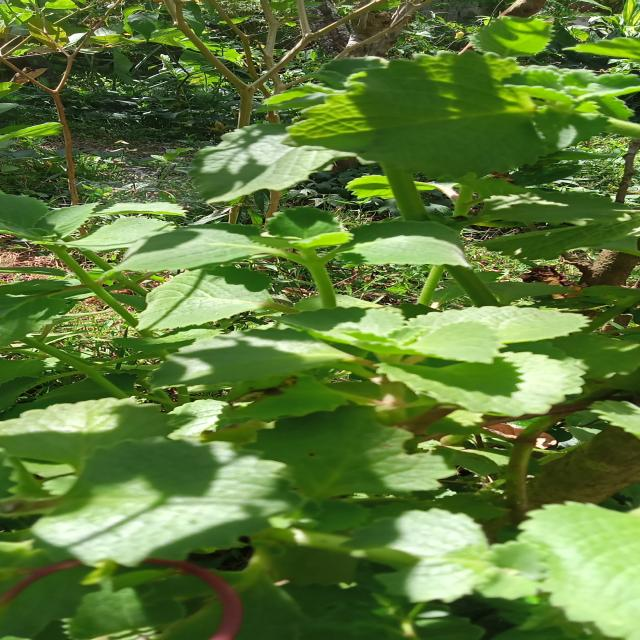Oregano: (35, 400, 332, 552), (275, 294, 595, 421), (114, 202, 493, 280), (500, 495, 640, 640)
